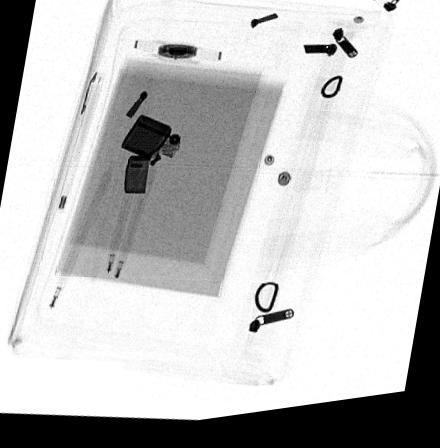Lighter: (119, 117, 182, 198)
